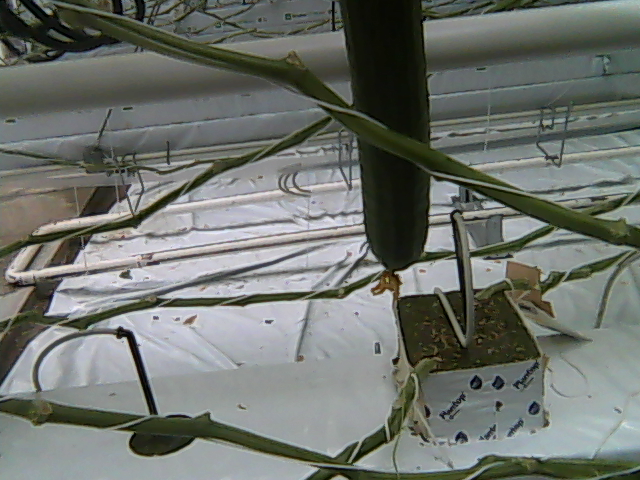concombre: (335, 1, 434, 296)
